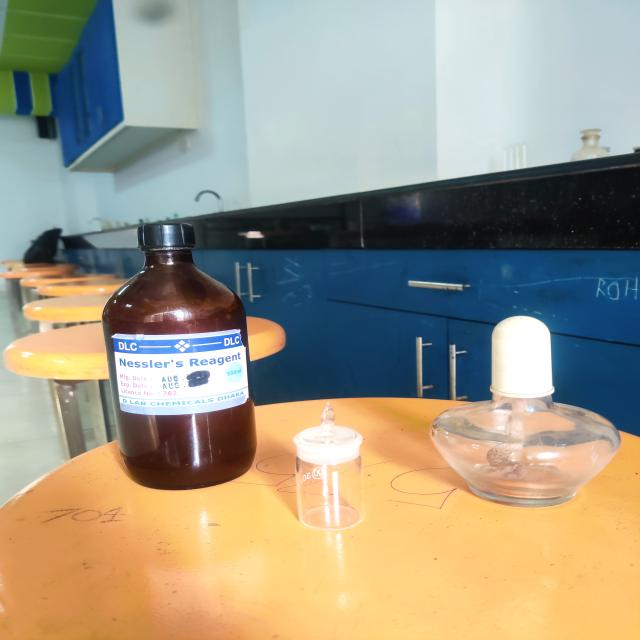Nessler_Reagent_Bottle: (81, 211, 267, 504)
Spirit_Lamp: (416, 306, 634, 528)
Weighing_Bottle: (284, 397, 382, 542)
